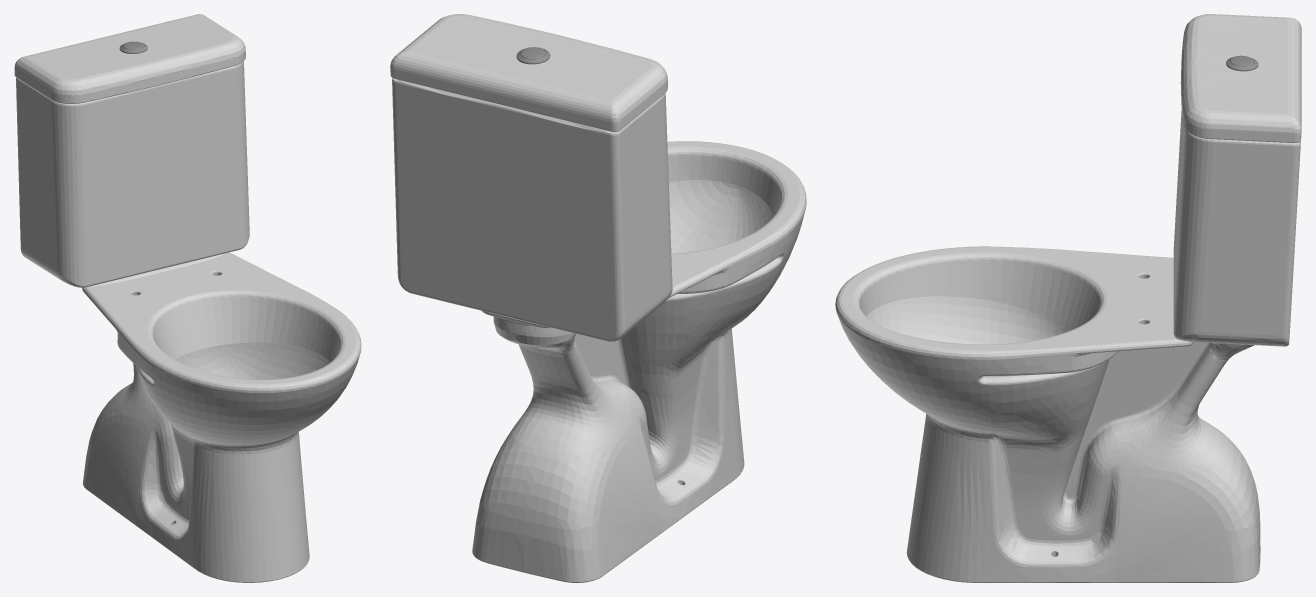
Rendered from AEC_29602.glb.
3 renders of one model, left to right at view 1: azimuth 30°, elevation 25°; view 2: azimuth 150°, elevation 25°; view 3: azimuth 270°, elevation 25°, orthographic. The views are drawn at different scales.
Visible parts, largest first — view 1: 0; view 2: 0; view 3: 0.
Part boxes in pixels (<box>): 0: <box>14,14,361,582</box>; 0: <box>390,14,806,582</box>; 0: <box>835,14,1301,582</box>.
Size of the model in its own units: 0.36 by 0.76 by 0.65.
Materials: 1 (1 with a texture image).
